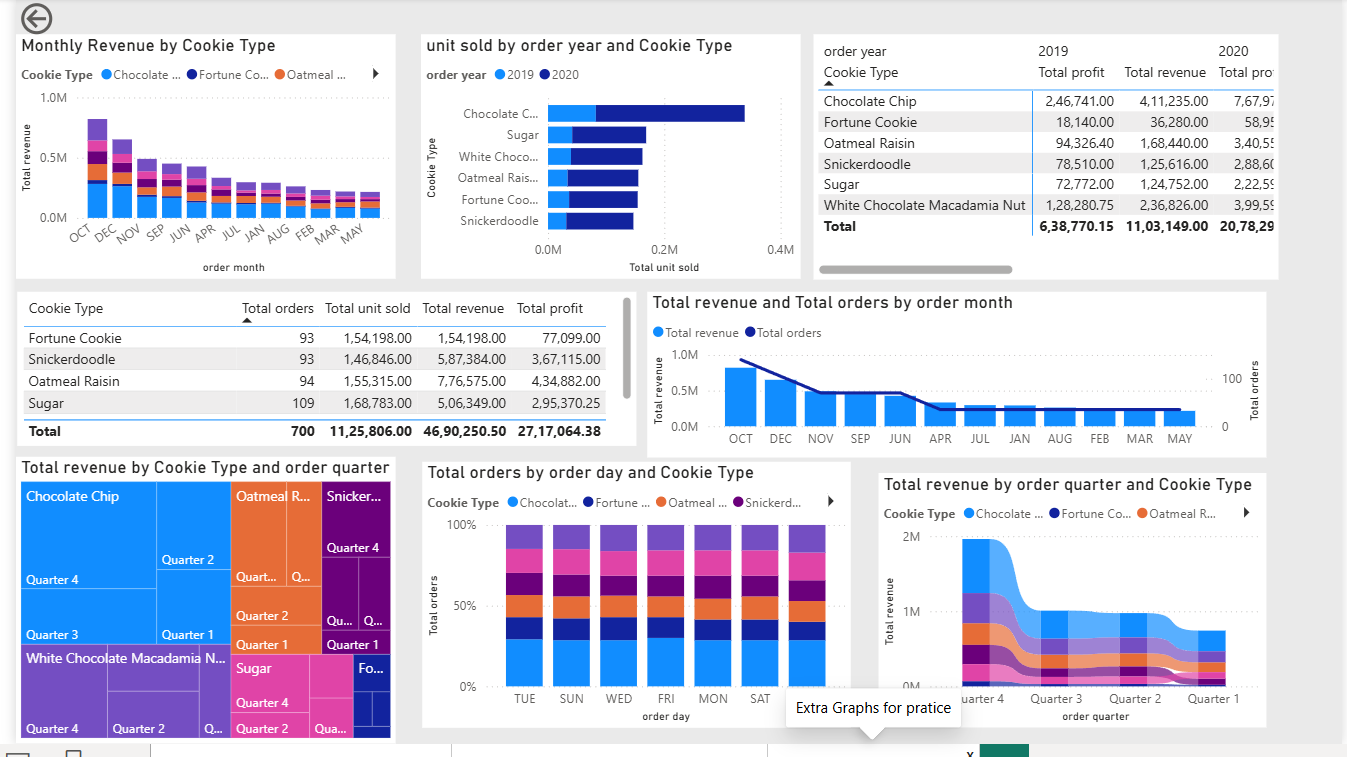

This screenshot's page, from the dashboard's own definition file:
{"tool":"powerbi","page":{"name":"Extra Graphs for pratice","canvas":[1280,720],"ordinal":2},"visuals":[{"type":"columnChart","title":"Monthly Revenue by  Cookie Type","fields":{"Category":["Orders.order month"],"Y":["Orders.Total revenue"],"Series":["Cookie Types.Cookie Type"]},"box":[0,35,366.2,236.2],"z":0},{"type":"barChart","title":"unit sold by order year and Cookie Type","fields":{"Y":["Orders.Total unit sold"],"Series":["Orders.order year"],"Category":["Cookie Types.Cookie Type"]},"box":[391.2,35,366.2,236.2],"z":1000},{"type":"pivotTable","fields":{"Rows":["Cookie Types.Cookie Type"],"Values":["Orders.Total profit","Orders.Total revenue"],"Columns":["Orders.order year"]},"box":[770,35.6,448.9,236.7],"z":2000},{"type":"tableEx","fields":{"Values":["Cookie Types.Cookie Type","Orders.Total orders","Orders.Total unit sold","Orders.Total revenue","Orders.Total profit"]},"box":[1.1,283.3,597.8,148.9],"z":3000},{"type":"actionButton","box":[0,0,100,40],"z":4000},{"type":"lineClusteredColumnComboChart","fields":{"Category":["Orders.order month"],"Y":["Orders.Total revenue"],"Y2":["Orders.Total orders"]},"box":[608.9,283.3,597.8,160],"z":5000},{"type":"treemap","fields":{"Group":["Cookie Types.Cookie Type"],"Values":["Orders.Total revenue"],"Details":["Orders.order quarter"]},"box":[0,443.3,366.7,276.7],"z":6000},{"type":"hundredPercentStackedColumnChart","fields":{"Y":["Orders.Total orders"],"Category":["Orders.order day"],"Series":["Cookie Types.Cookie Type"]},"box":[391.9,447.3,413.5,256.8],"z":7000},{"type":"ribbonChart","fields":{"Category":["Orders.order quarter"],"Y":["Orders.Total revenue"],"Series":["Cookie Types.Cookie Type"]},"box":[832.4,458.1,374.3,245.9],"z":8000}]}

Visuals, with their boxes on the page's 1280x720 design canvas (x1, y1, x2, y2). These are canvas units, not pixel positions in the 1347x757 screenshot, which may show the page scaled, cropped or inside an application window:
"Monthly Revenue by  Cookie Type" columnChart: Rect(0, 35, 366, 271)
"unit sold by order year and Cookie Type" barChart: Rect(391, 35, 757, 271)
pivotTable - Cookie Types.Cookie Type x Orders.Total profit: Rect(770, 36, 1219, 272)
tableEx - Cookie Types.Cookie Type x Orders.Total orders: Rect(1, 283, 599, 432)
actionButton: Rect(0, 0, 100, 40)
lineClusteredColumnComboChart - Orders.order month x Orders.Total revenue: Rect(609, 283, 1207, 443)
treemap - Cookie Types.Cookie Type x Orders.Total revenue: Rect(0, 443, 367, 720)
hundredPercentStackedColumnChart - Orders.Total orders x Orders.order day: Rect(392, 447, 805, 704)
ribbonChart - Orders.order quarter x Orders.Total revenue: Rect(832, 458, 1207, 704)
